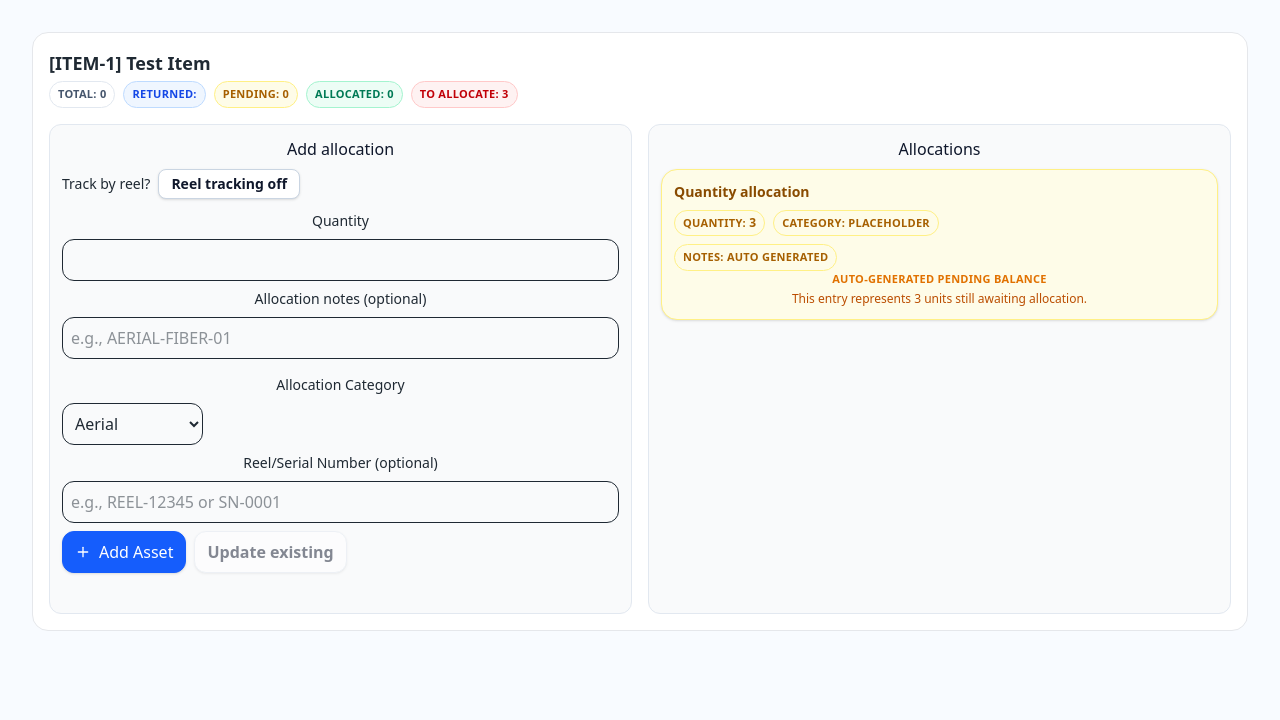
Test: open pending control primes the allocation form
The image size is (1280, 720).
Click the button with aria-label "open pending for edit".
click(742, 191)  # box x1=661 y1=168 x2=1218 y2=320
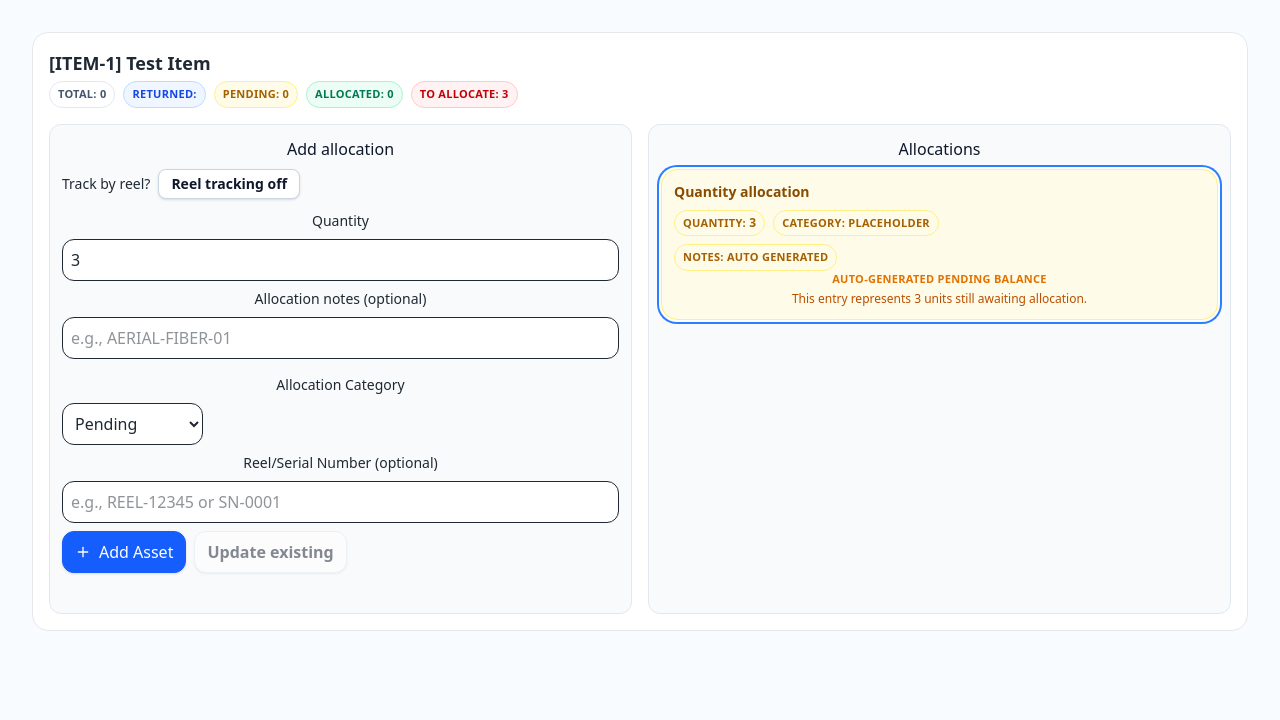
Expected: the number field holds "3", x1=62 y1=238 x2=619 y2=280
Expected: the dropdown shows "Pending", x1=62 y1=402 x2=203 y2=444
